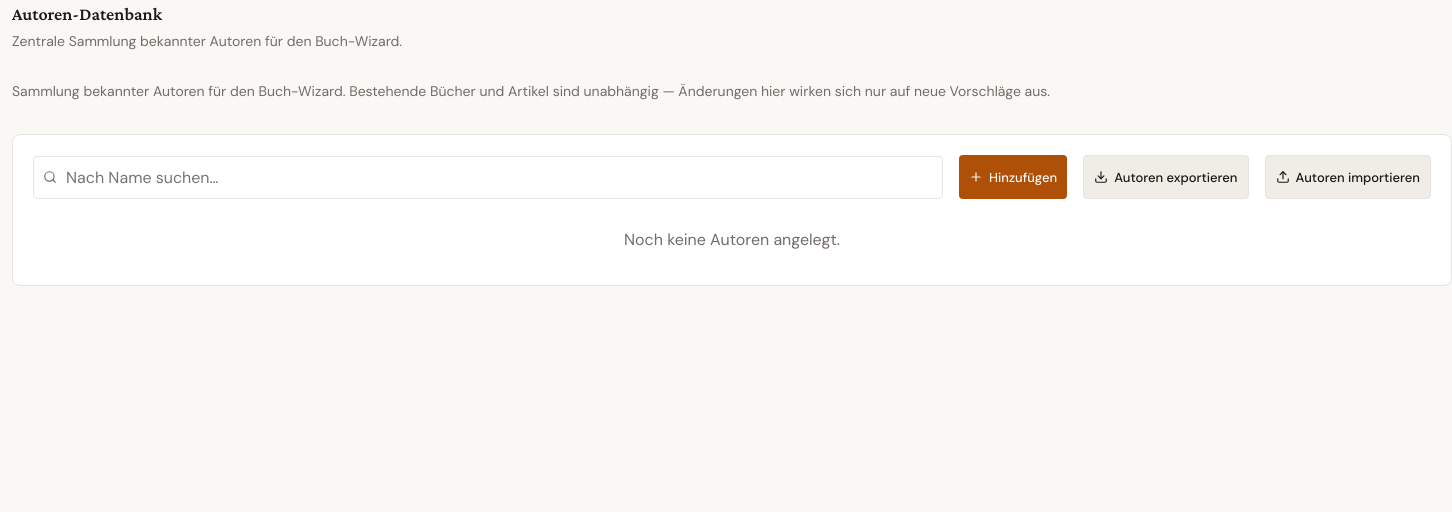
Scenario: AuthorsDatabase › reveals the add form when the add toggle is clicked
The image size is (1452, 512).
Click the button with test id "authors-database-add-toggle". click: (1013, 177)
box: [959,155,1067,199]
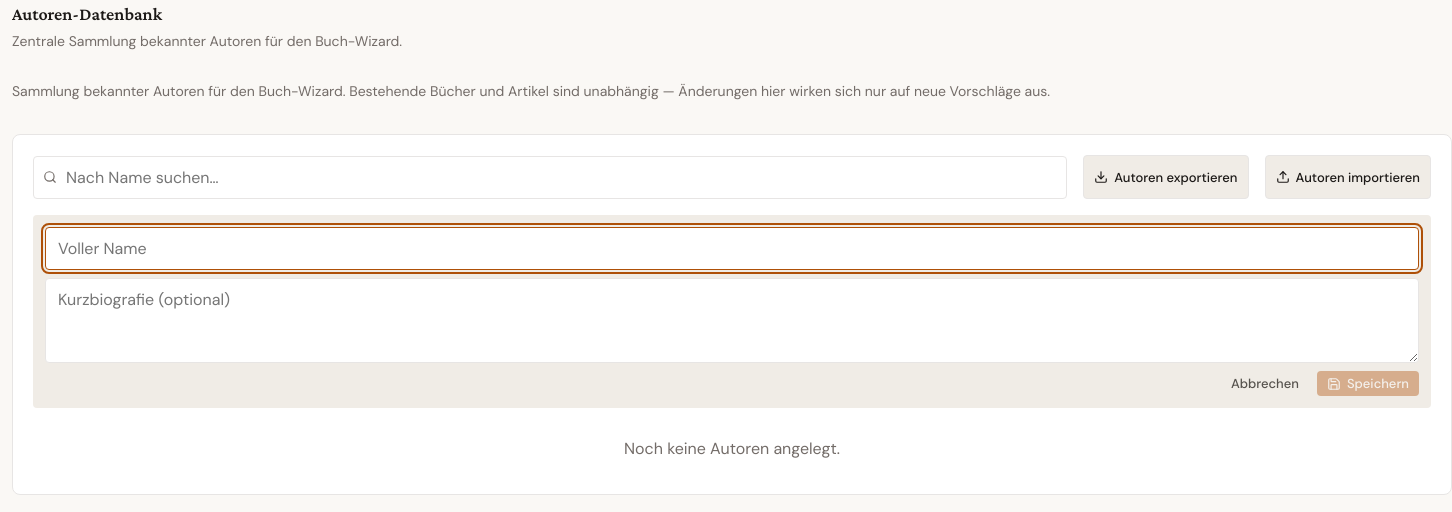
Result: the element with test id "authors-database-add-form" is shown at [33,215,1431,408]
Result: the field with test id "authors-database-add-name" is shown at [45,227,1419,270]
Result: the text box with test id "authors-database-add-bio" is shown at [45,278,1419,363]
